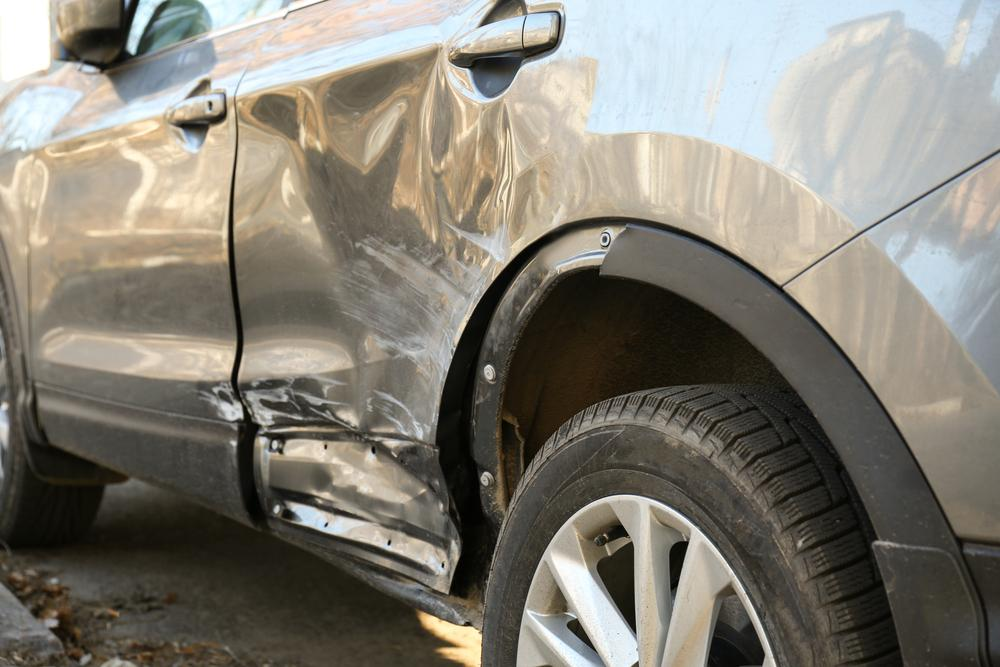dent: (247, 49, 571, 568)
